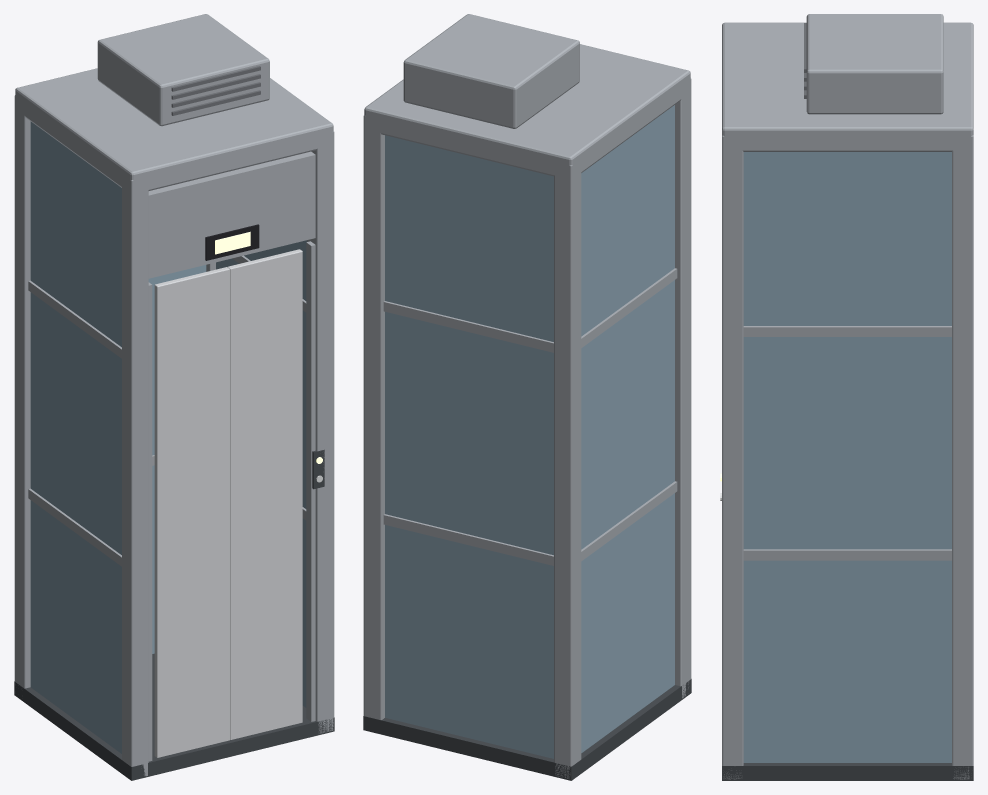
Rendered from elevator.fbx.
3 views of the same model, side by side, from view 1: azimuth 30°, elevation 25°; view 2: azimuth 150°, elevation 25°; view 3: azimuth 270°, elevation 25° (orthographic). The views are drawn at different scales.
Visible parts, largest first — view 1: elevator; view 2: elevator; view 3: elevator.
Part boxes in pixels (x1,y1,x2,y2): elevator: (14,14,334,780); elevator: (363,14,691,780); elevator: (720,14,973,780).
Bounding box in the file's own units: 0.92 × 2.81 × 0.926.
